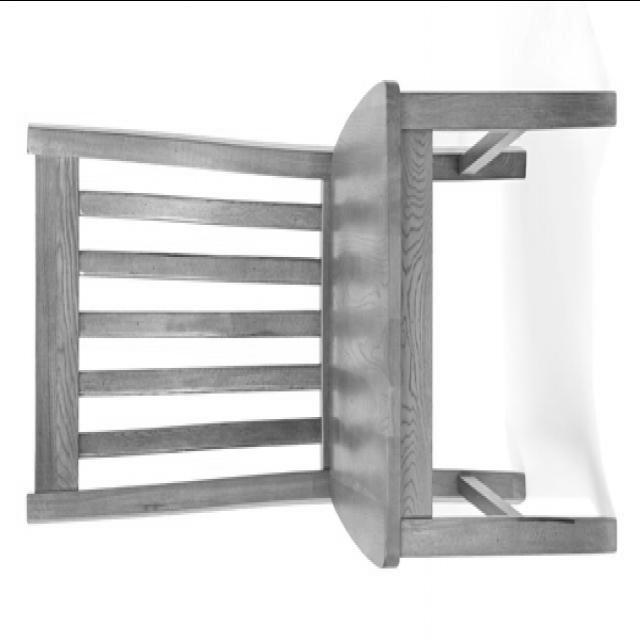chair: (24, 80, 618, 578)
